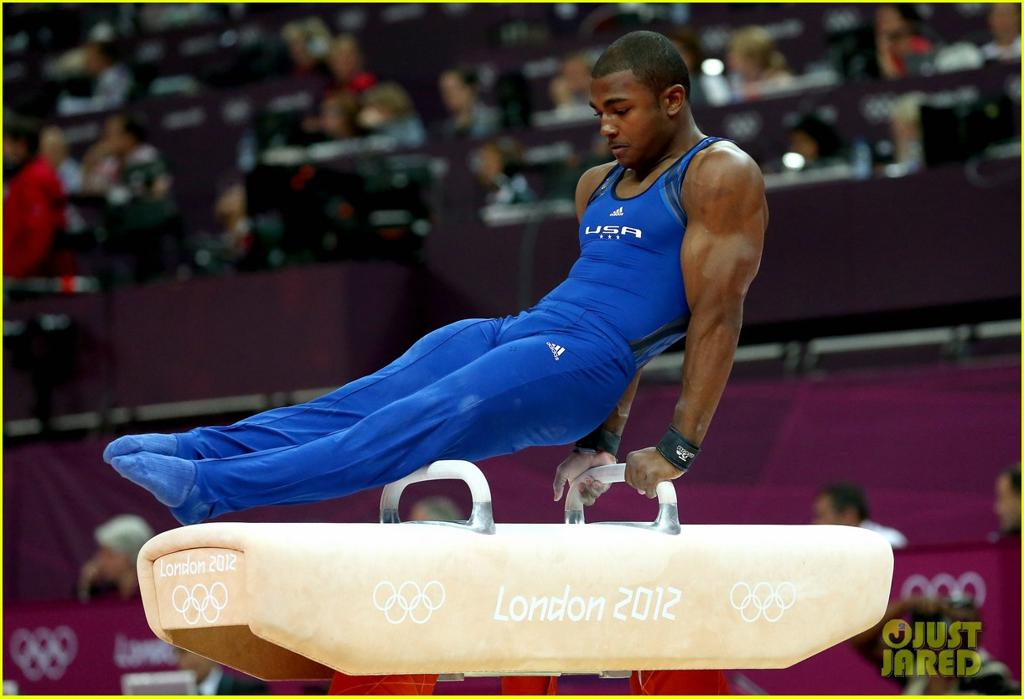face: (586, 66, 658, 168)
